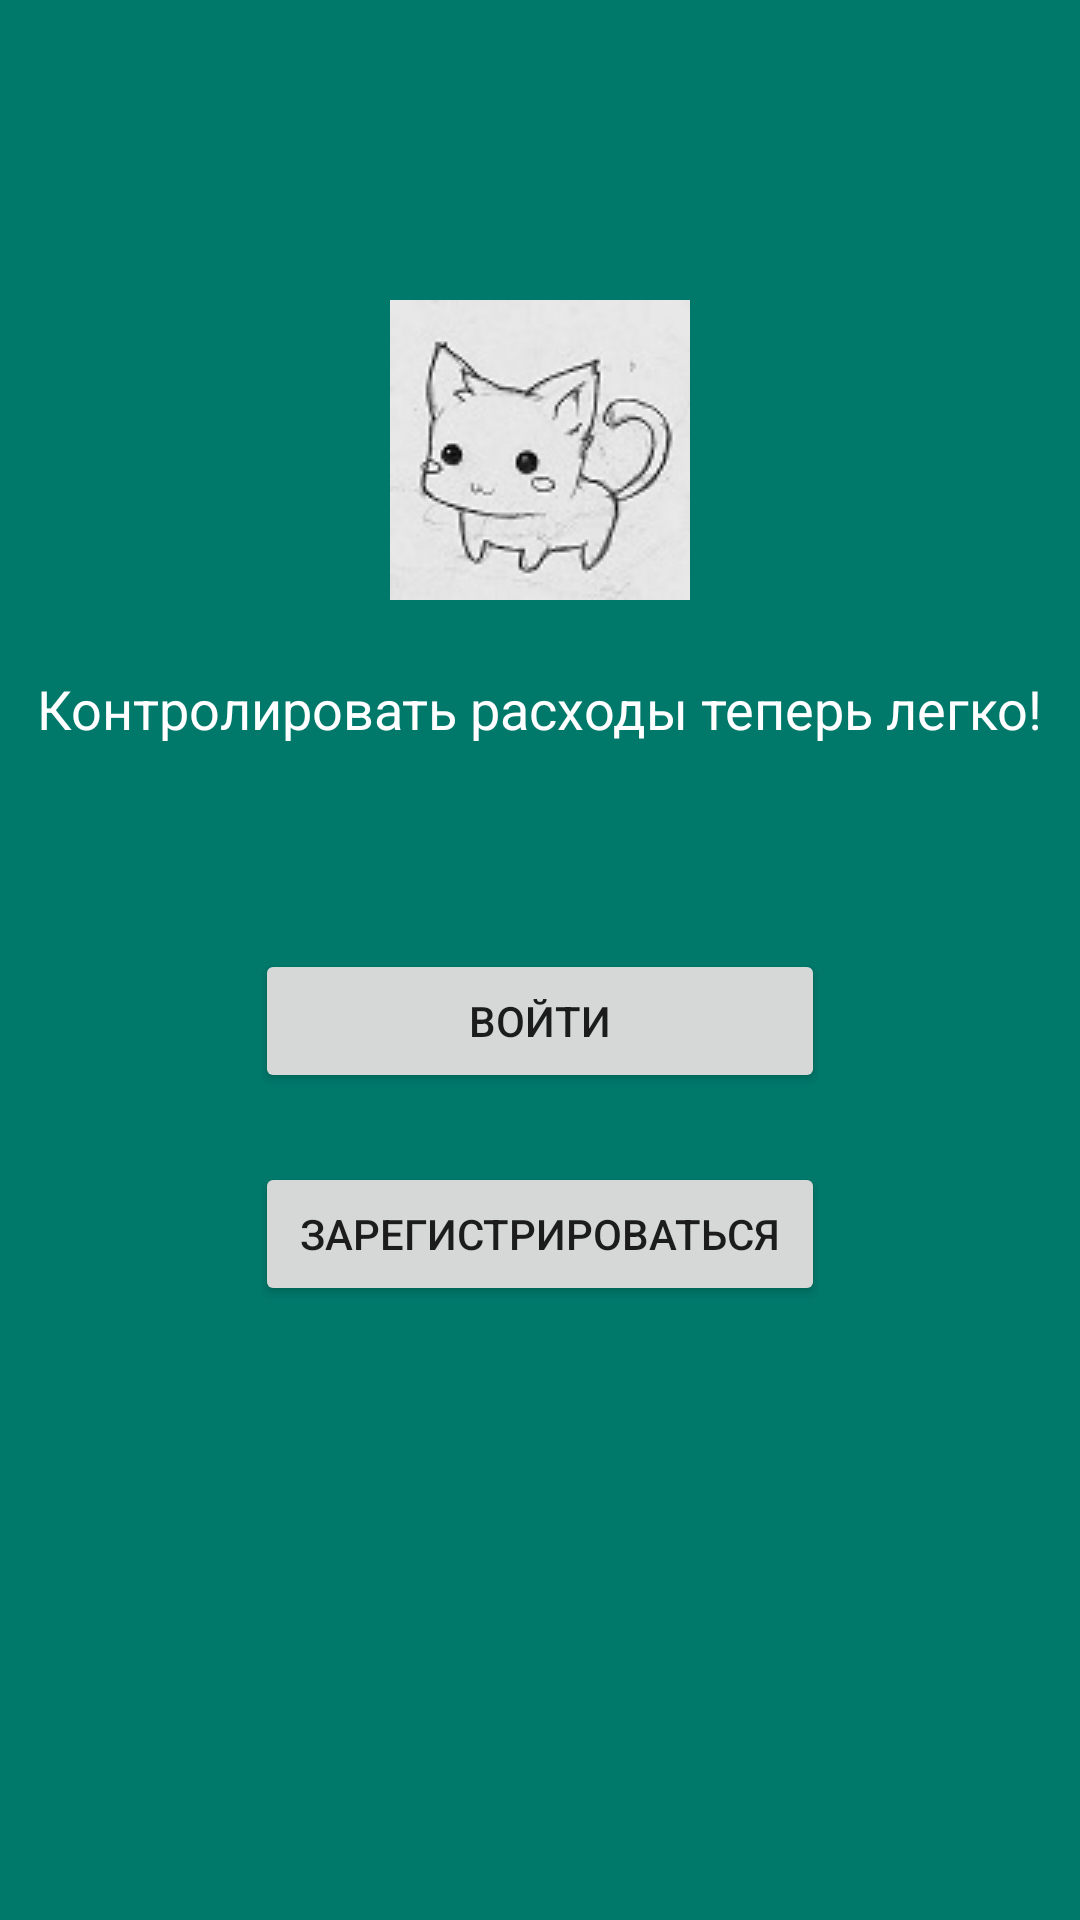

Icon bounding boxes for this 1080*1920 phone screenshot, format bbox(x1, y1, x2, y2):
cat: bbox(390, 300, 690, 600)
